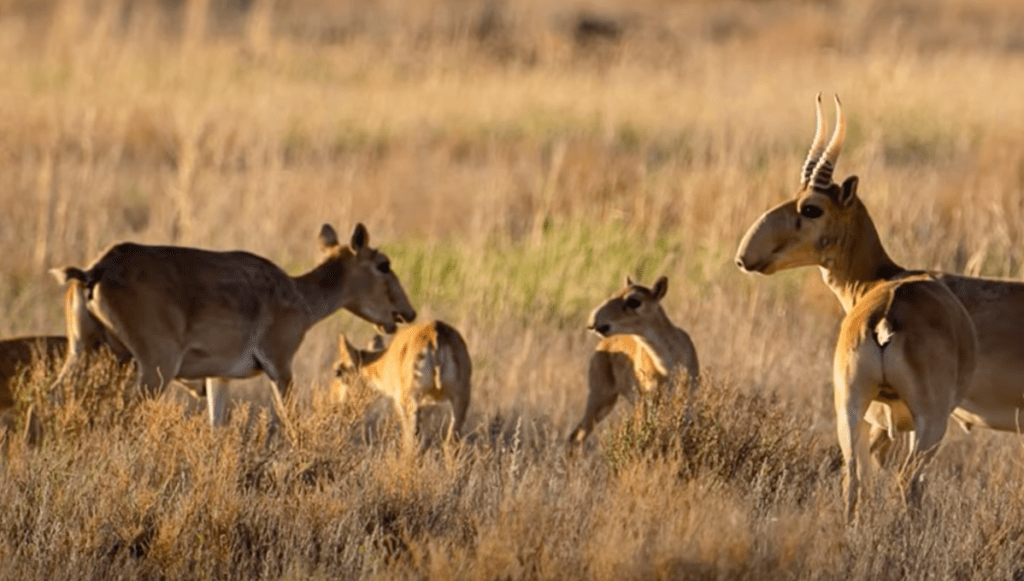saiga: (727, 86, 1024, 430), (54, 223, 416, 455), (556, 265, 711, 460)
